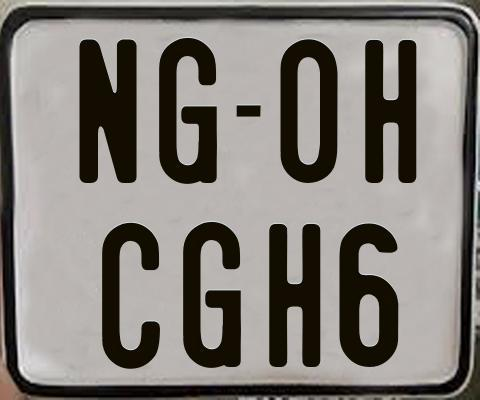0: (277, 39, 338, 183)
6: (339, 222, 402, 367)
C: (102, 223, 166, 375)
G: (181, 221, 244, 369), (159, 37, 220, 183)
H: (268, 223, 322, 372), (363, 38, 416, 181)
N: (78, 37, 139, 185)
